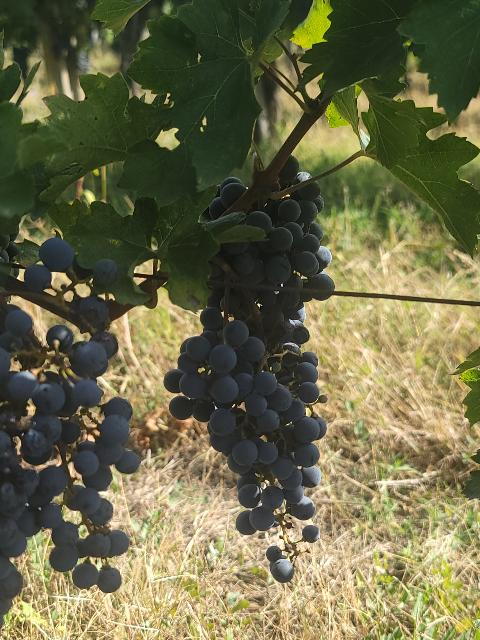grapes: (164, 305, 326, 582), (0, 296, 139, 591), (202, 156, 335, 344)
